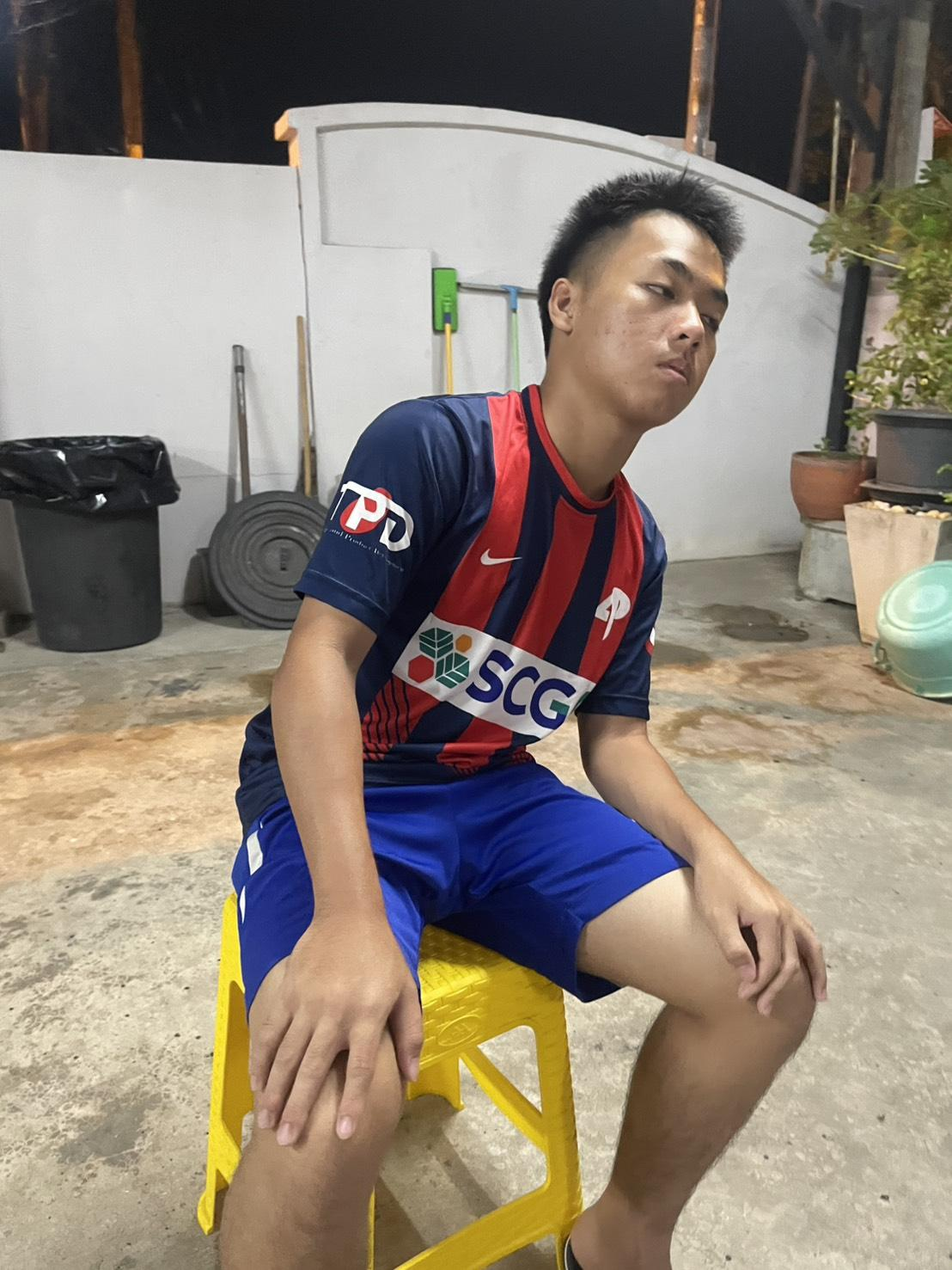BadPosture: (298, 173, 741, 785)
